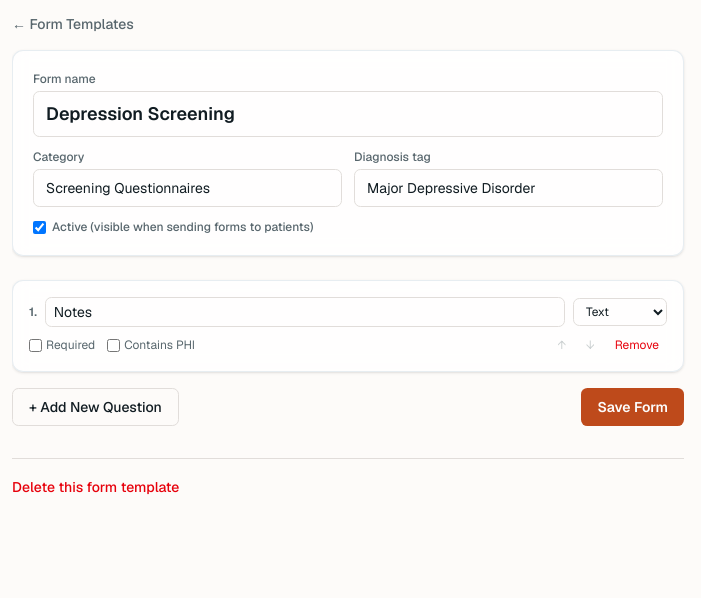
FormBuilderEditor › reveals an empty options editor immediately when switching a question to Select
The image size is (701, 598).
Select "Select" in the dropdown showing "Text": (620, 312) [573,298,667,326]
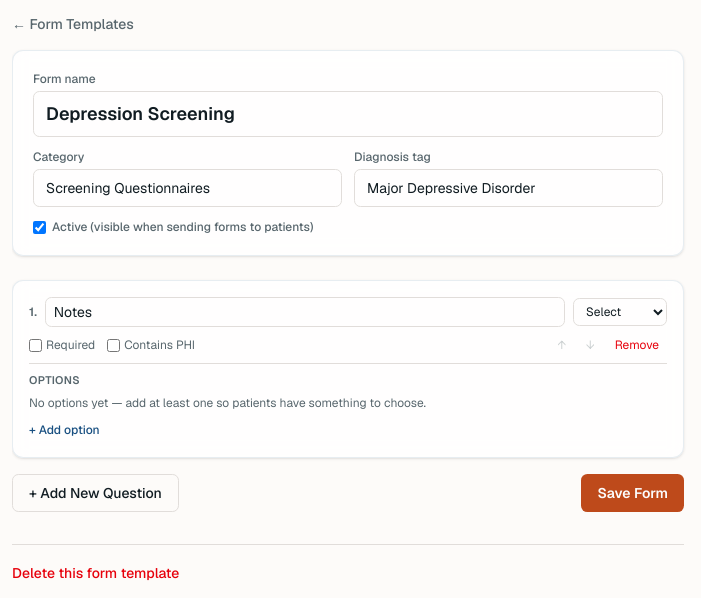
expect the text "No options yet — add at least one so patients have something to choose." is shown: met, box [29,394,426,410]
